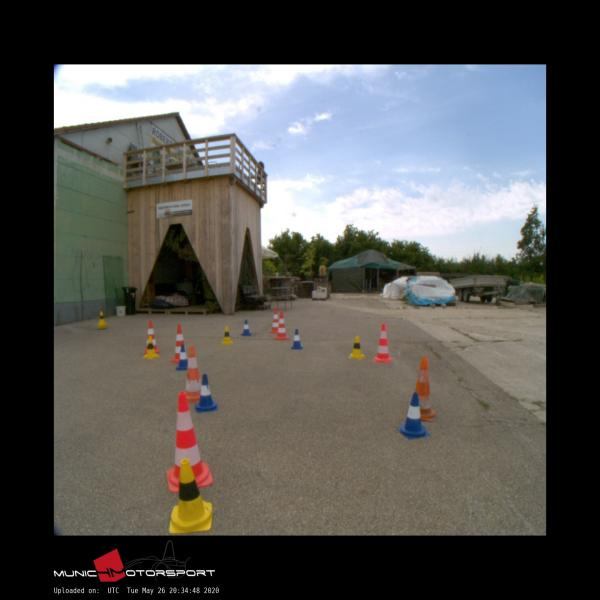blue_cone: (397, 392, 430, 438), (196, 374, 217, 411), (176, 344, 189, 370), (291, 328, 303, 348), (241, 319, 250, 335)
large_orange_cone: (167, 392, 211, 488), (409, 356, 435, 420), (183, 346, 205, 402), (372, 324, 392, 363), (172, 325, 188, 362), (143, 321, 159, 354), (275, 312, 289, 340), (270, 308, 281, 332)
yellow_cone: (169, 459, 212, 533), (348, 335, 364, 358), (143, 336, 159, 357), (220, 326, 233, 342), (97, 310, 106, 324)
